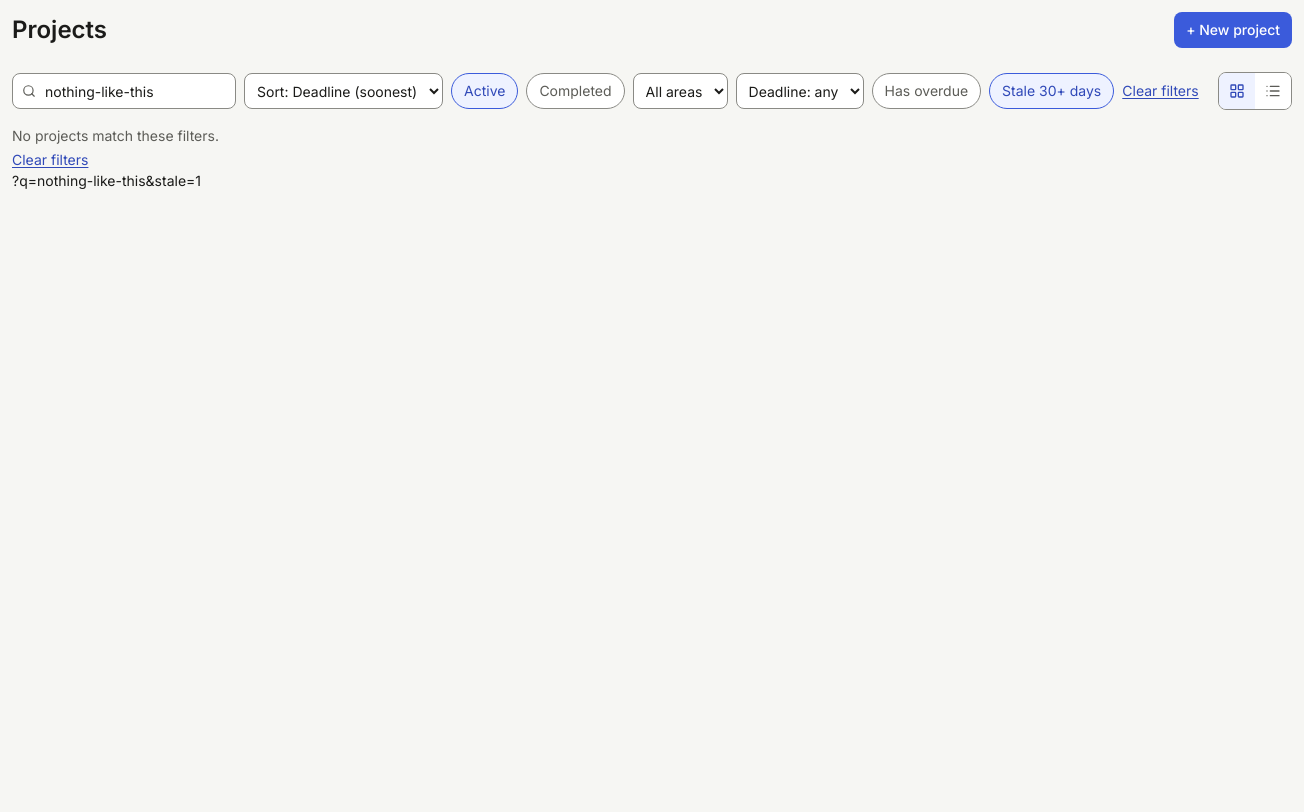
it: ProjectsPage › shows an empty result with Clear filters that resets everything
The width and height of the screenshot is (1304, 812).
Expected: the text "No projects match these filters." is shown, [12, 127, 219, 144]
Click the button "Clear filters" below "No projects match these filters." at (50, 160), box [12, 150, 88, 170]
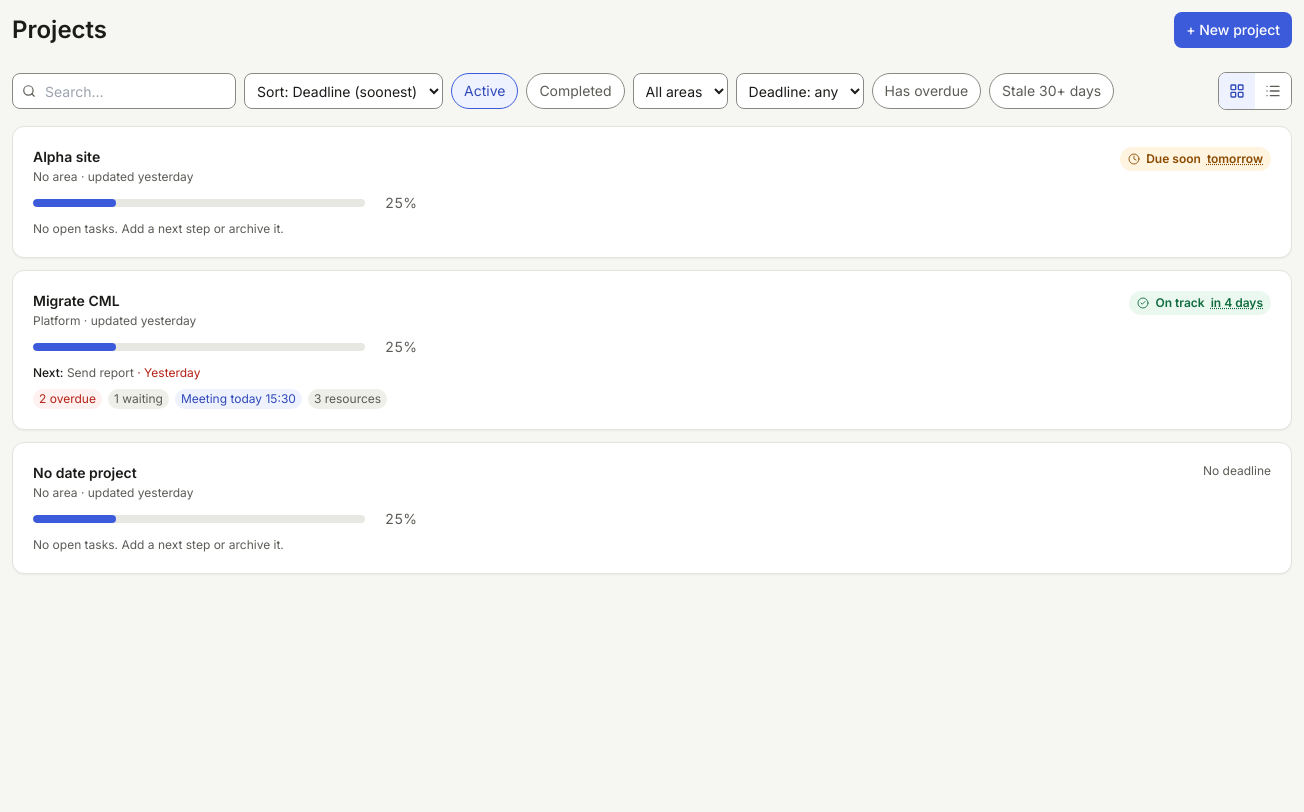
Expected: the heading "Migrate CML" is shown, [33, 292, 120, 309]
